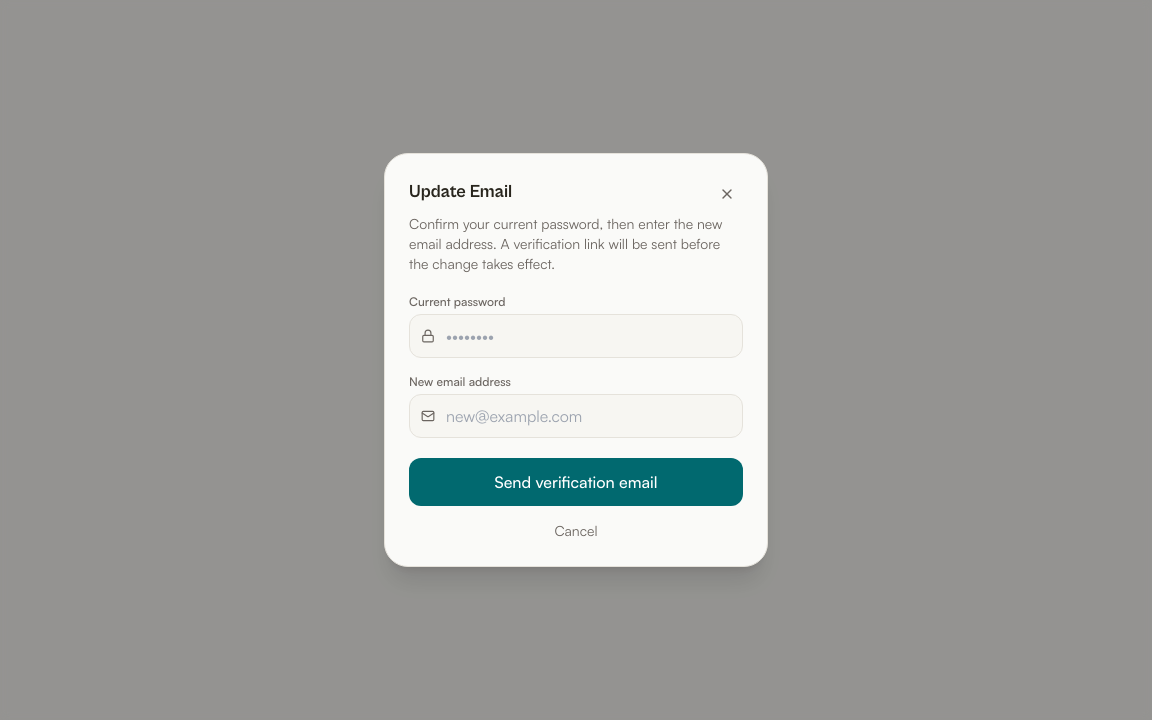
it: EmailUpdateModal › shows inline error when new email is invalid
In the password field labelled "Current password": (576, 336) [409,314,743,358], type "secret123"
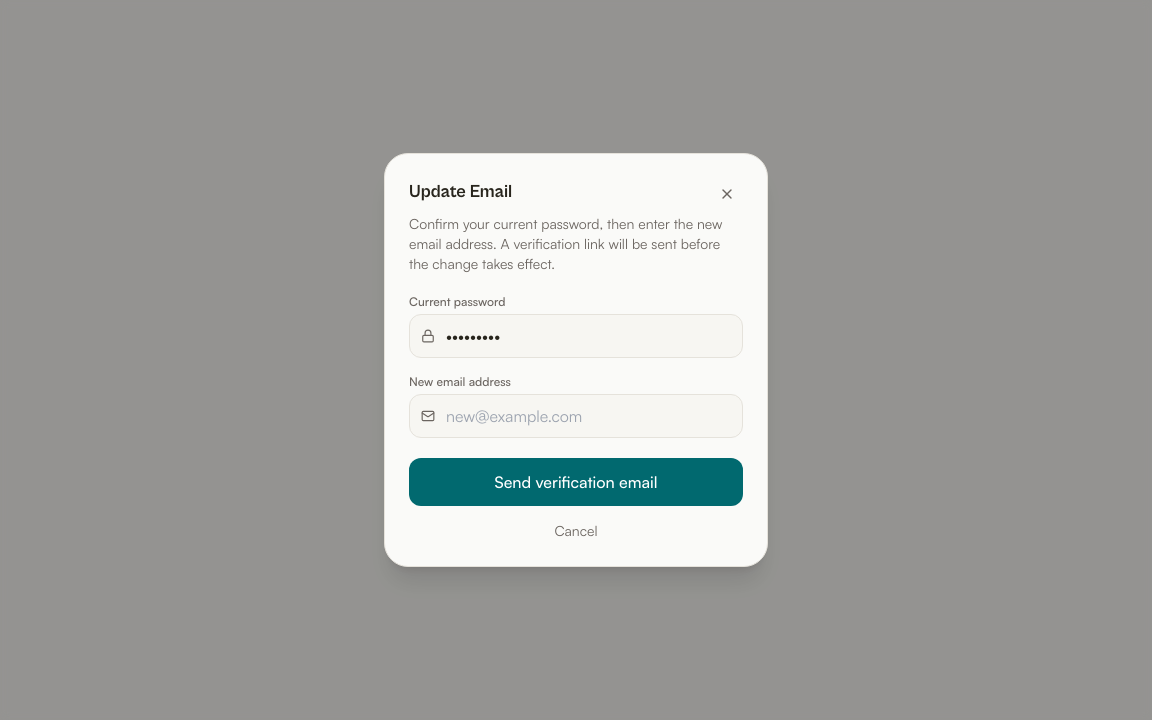
In the field labelled "New email address": (576, 416) [409,394,743,438], type "not-an-email"
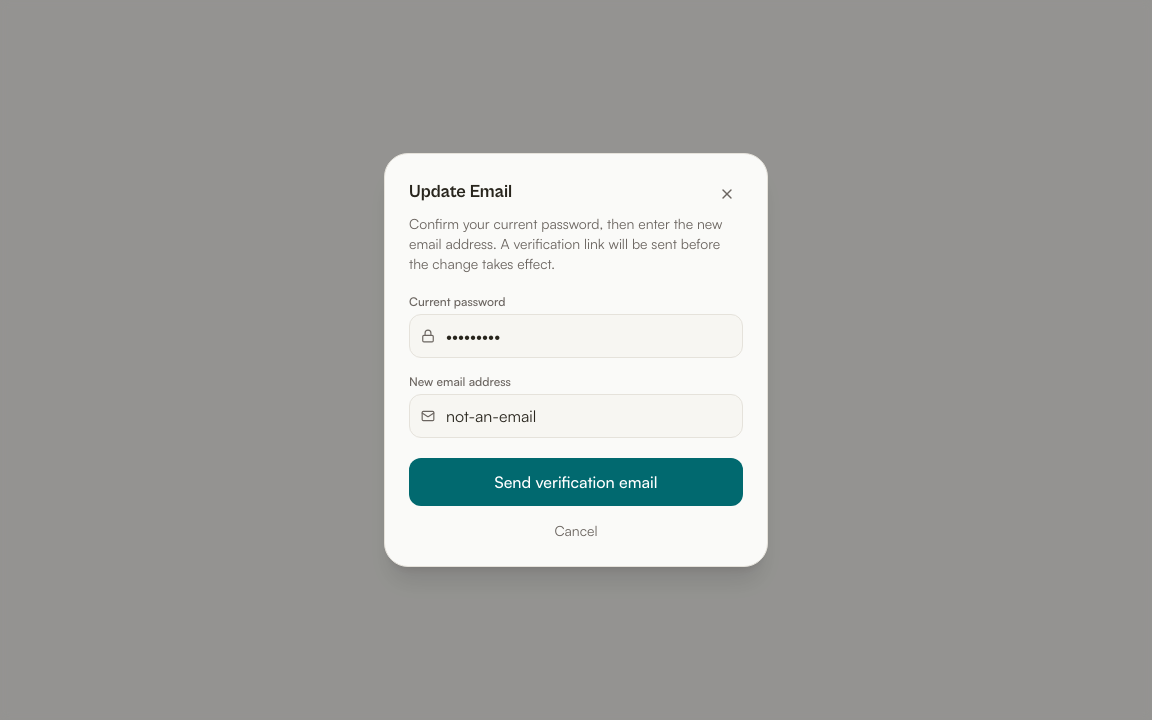
Click the button "Send verification email": click(576, 482) [409,458,743,506]
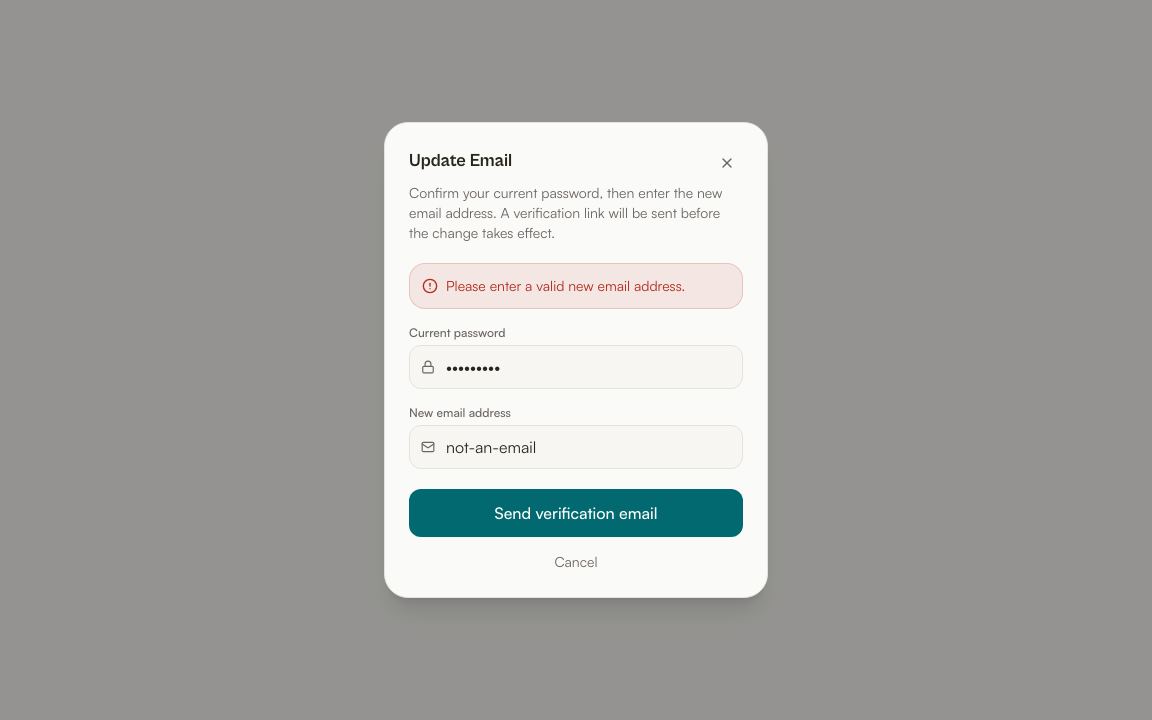
Now the message shows "valid new email", box [446,277,685,294]
